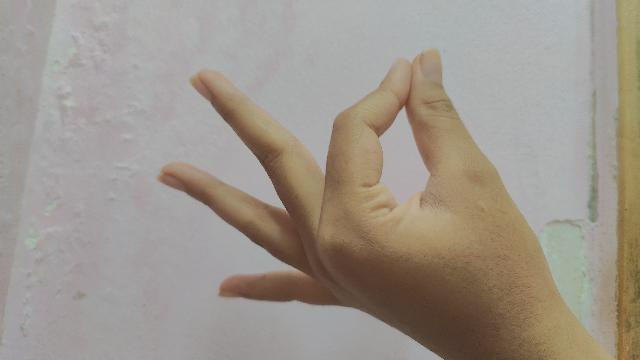hansaasya: (155, 49, 615, 360)
